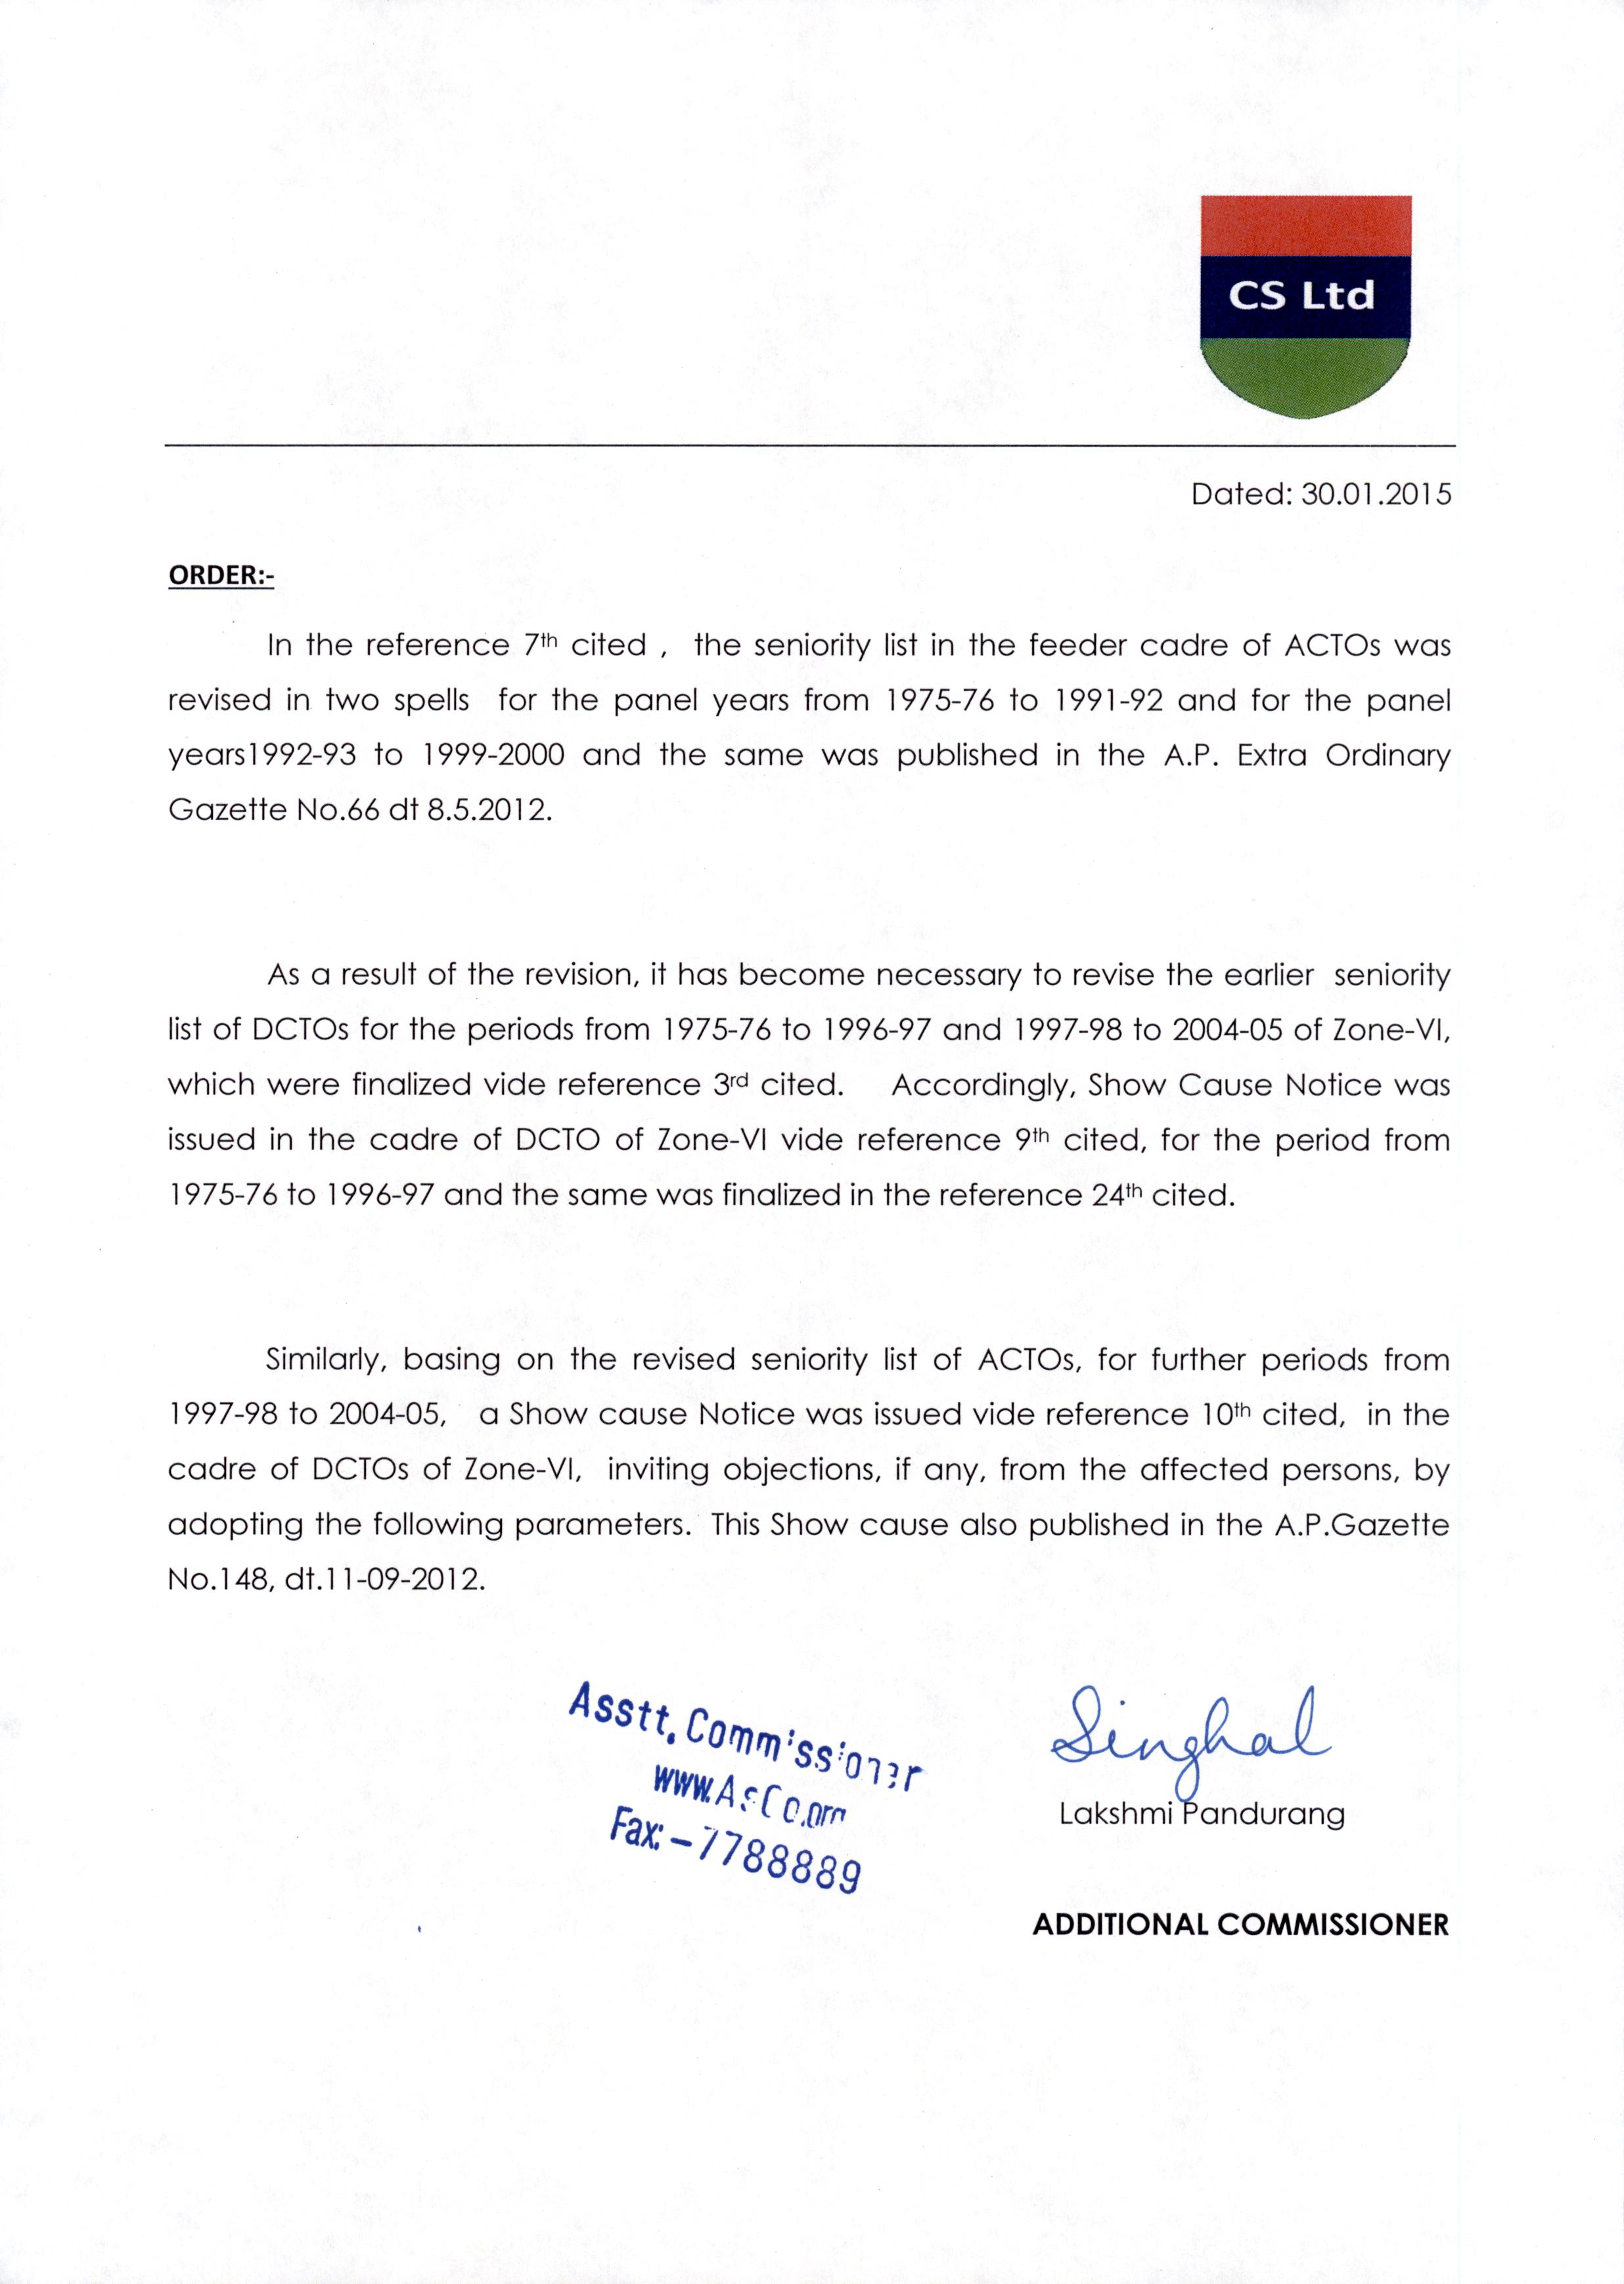Signature: (1039, 1674, 1346, 1806)
